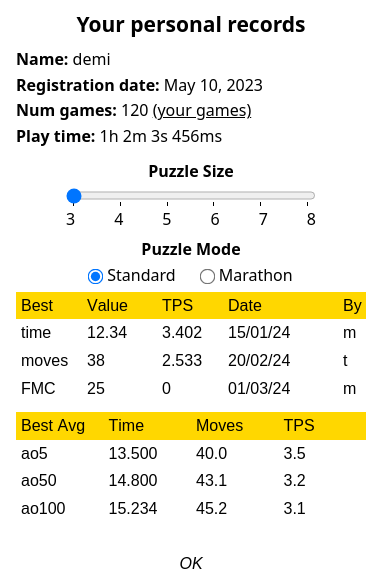
Scenario: UserAccount › re-filters best records when a different puzzle size is picked
Expected: the table with class "items-table" that starts with "Best" is shown, [16,292,366,402]
Click the text "4": click(119, 219) [114,207,123,232]
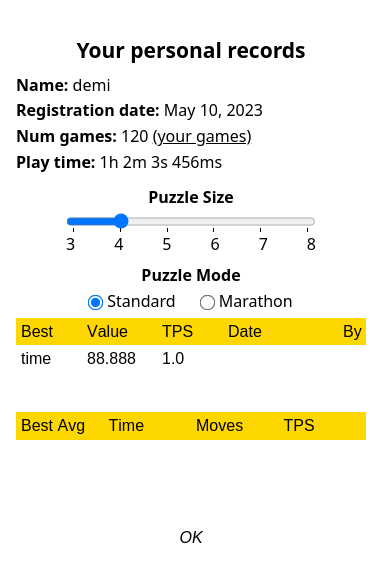
Now the cell "88.888" is shown, box [82,345,157,373]
